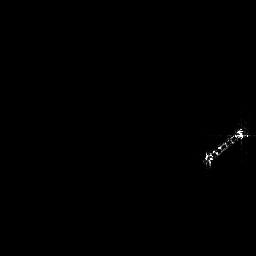ship: (202, 124, 250, 171)
